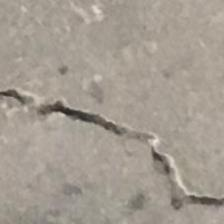Crack: (3, 83, 224, 216)
